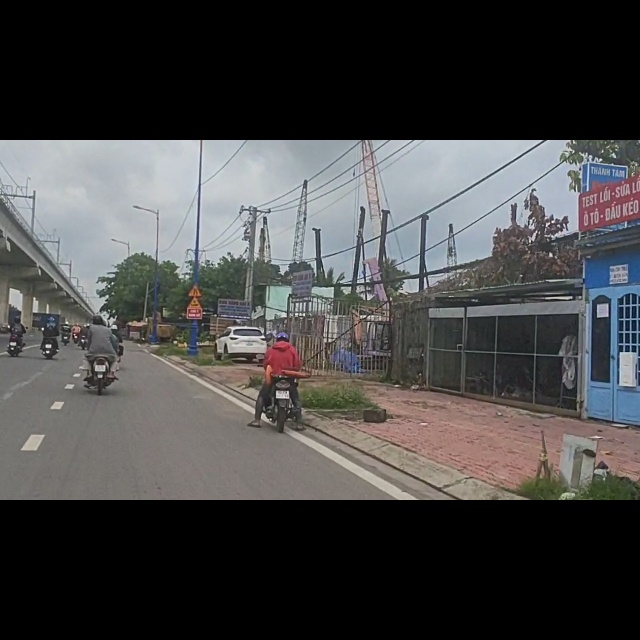bien_nguy_hiem: (187, 277, 203, 299), (189, 255, 203, 279)
